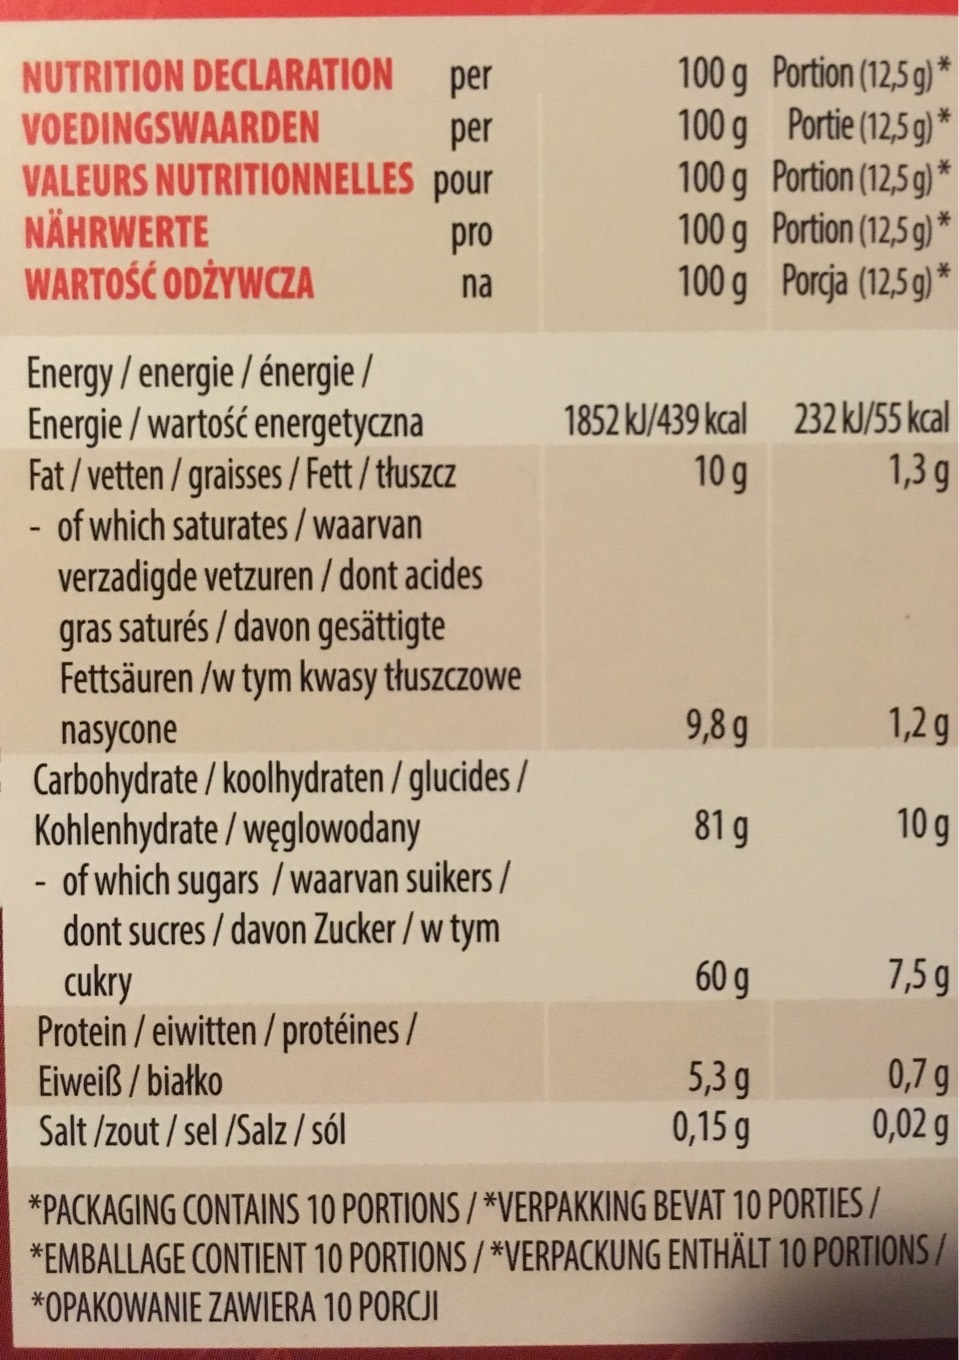column: (18, 41, 524, 1163), (560, 50, 753, 1159), (778, 55, 951, 1161)
table: (1, 21, 959, 1181)
